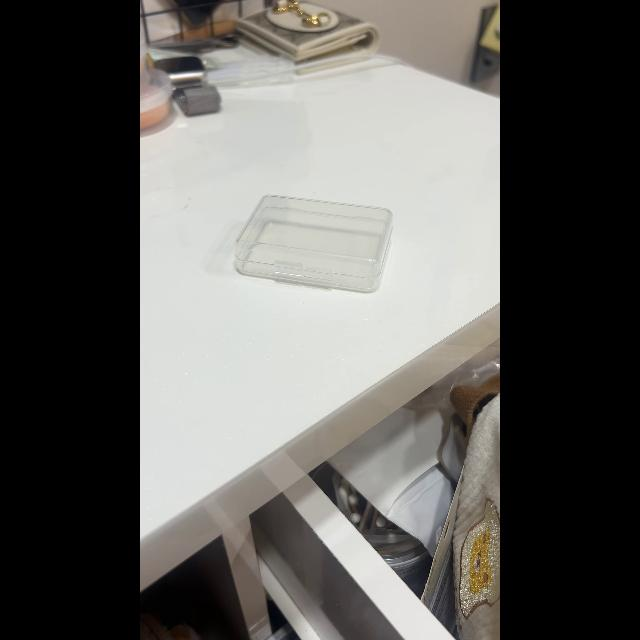clean: (233, 192, 395, 292)
